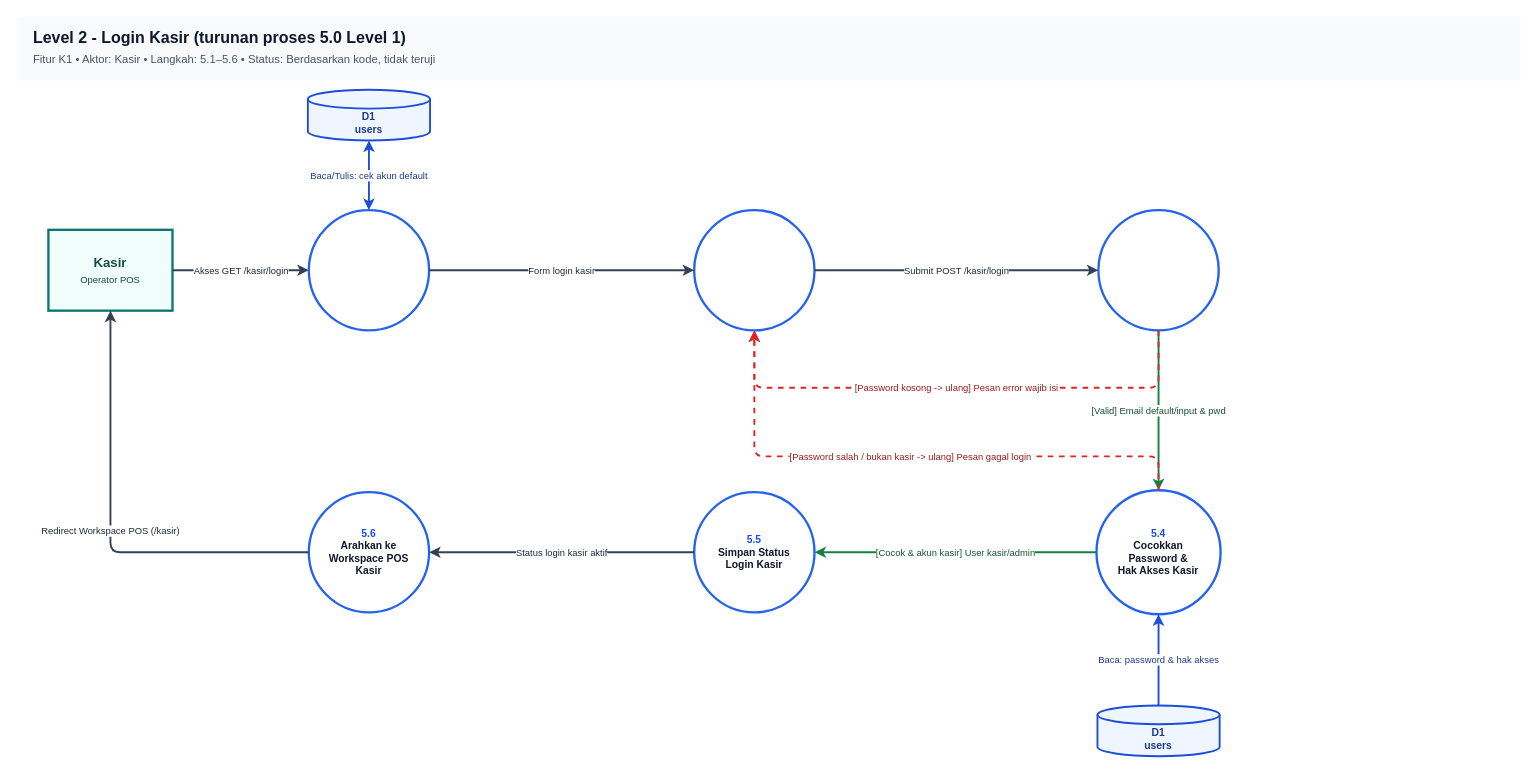
Image size: 1536x773. Some labels were removed from this diagram. The box of each missing label's shape, as (x1, y1, x2, y2) in pixels:
5.1 Muat Form & Pastikan Akun Kasir: (307, 208, 430, 331)
5.2 Input Password (& Email Kasir): (693, 208, 815, 331)
5.3 Validasi Password Wajib Isi: (1097, 208, 1219, 331)
